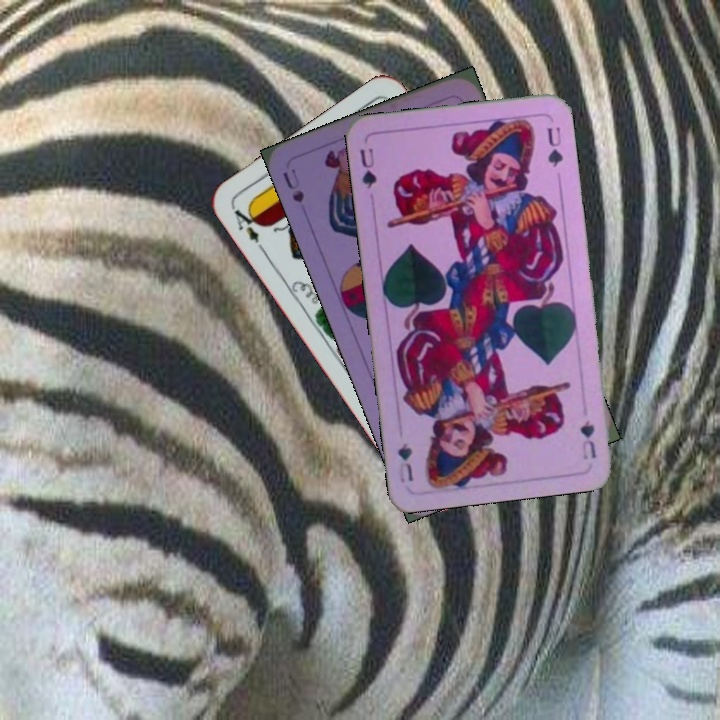EA: (230, 201, 269, 255)
GU: (356, 144, 380, 191), (576, 416, 599, 462)
SU: (278, 164, 307, 205)
